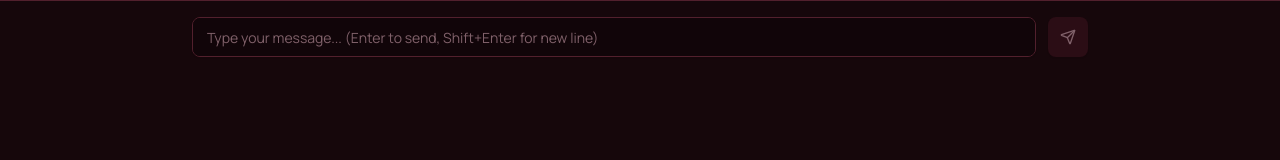
Test: MessageInput Component › allows user to type and submit message via send button
This screenshot has width=1280, height=160.
Type "Where is my order?" into the text box named "Message input".
click(614, 37); type("Where is my order?")  # box [192,17,1036,57]
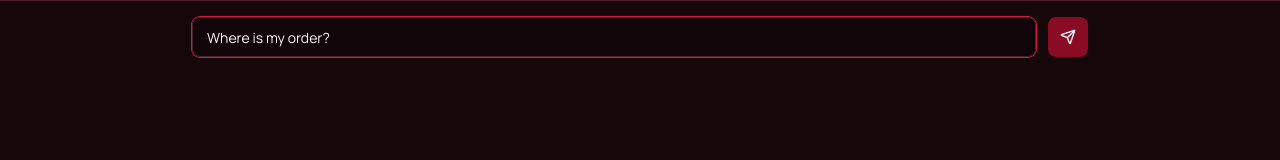
Click the button named "Send message".
click(1068, 37)  # box [1048,17,1088,57]
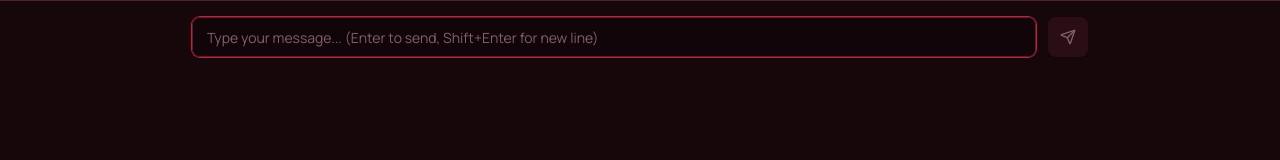
Now the text box named "Message input" is empty, box [192,17,1036,57]
